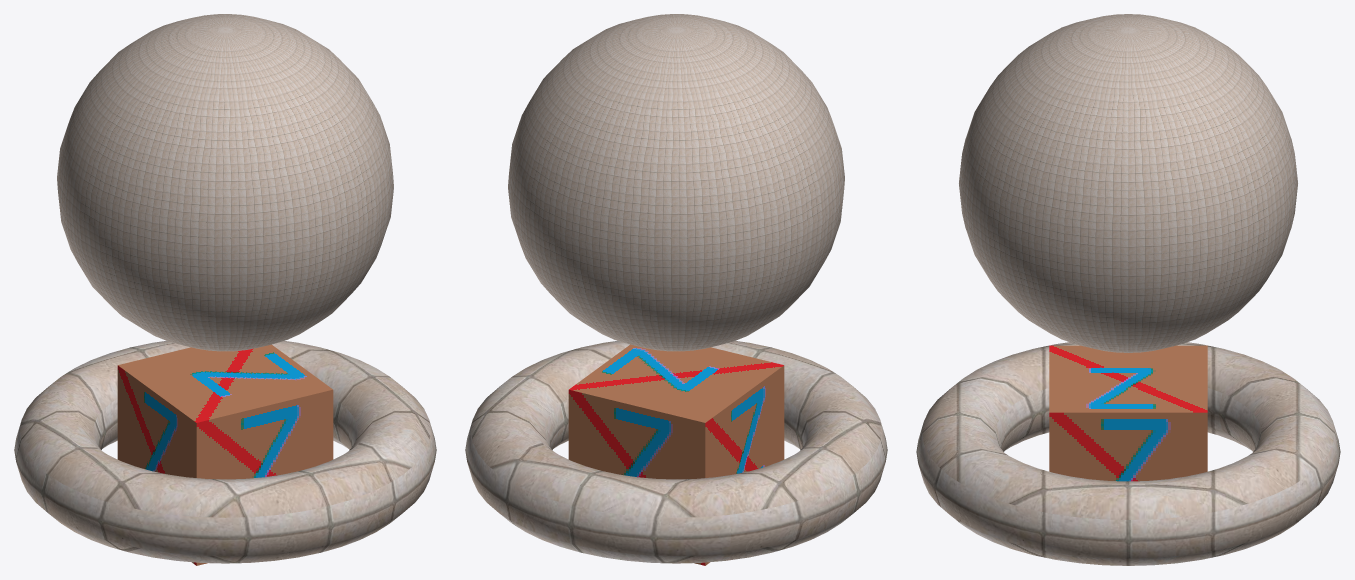
The model's file is multimesh.obj.
3 renders of one model, left to right at view 1: azimuth 30°, elevation 25°; view 2: azimuth 150°, elevation 25°; view 3: azimuth 270°, elevation 25°, orthographic.
Parts seen in each view (by area): view 1: Sphere, Torus, Cube_Cube.001; view 2: Sphere, Torus, Cube_Cube.001; view 3: Sphere, Torus, Cube_Cube.001.
Part boxes in pixels (left/top/right/bottom): Sphere: left=57, top=14, right=393, bottom=351; Torus: left=14, top=341, right=436, bottom=563; Cube_Cube.001: left=117, top=344, right=333, bottom=565; Sphere: left=508, top=14, right=844, bottom=351; Torus: left=465, top=341, right=887, bottom=563; Cube_Cube.001: left=568, top=344, right=784, bottom=565; Sphere: left=959, top=14, right=1297, bottom=352; Torus: left=916, top=342, right=1340, bottom=565; Cube_Cube.001: left=1049, top=345, right=1207, bottom=481.
Bounding box in the file's own units: 2.5 × 3.21 × 2.5.
